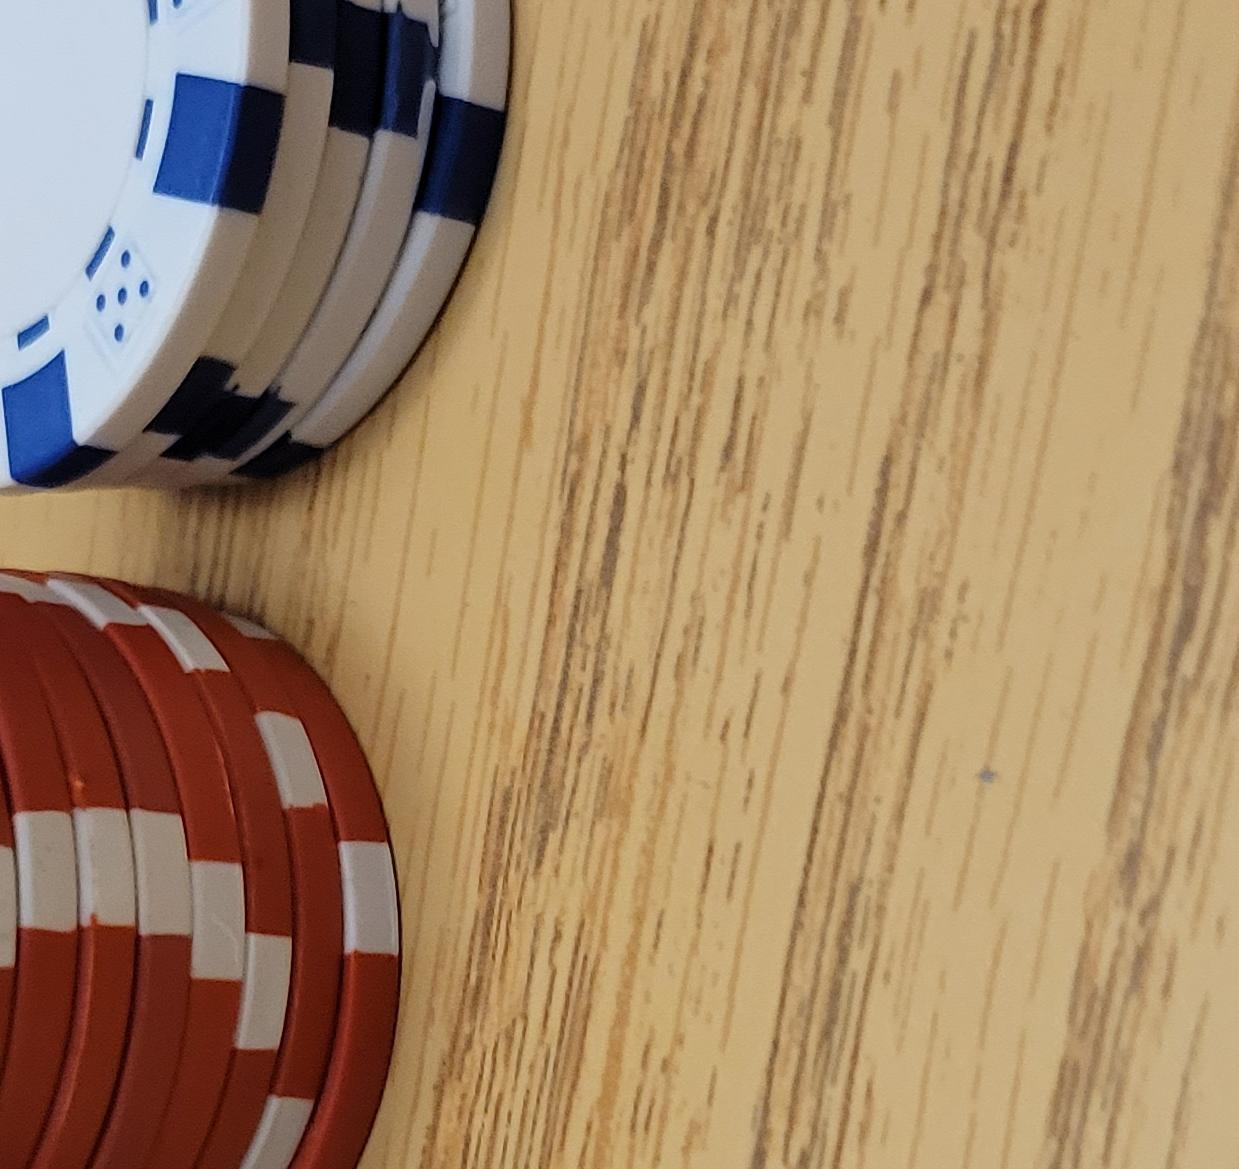Chip: (1, 144, 531, 1169)
